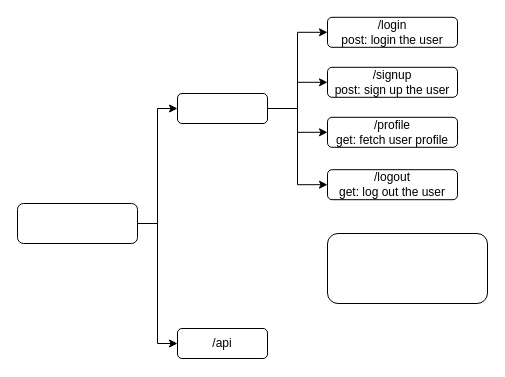
Image size: 505x377. Some labels were removed from this diagram. The centre of each missing label's shape, as x and y in pixels:
/data get: get data index list post: (admin) upload data: point (407, 268)
/users: point (222, 108)
Server Router: point (77, 223)
